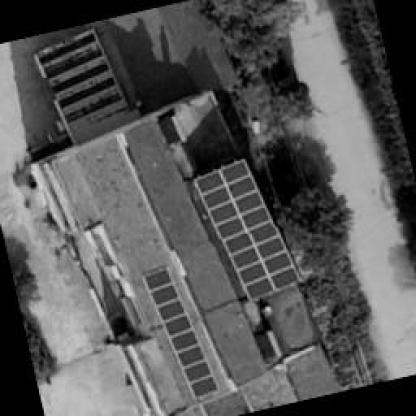solar-pv-panel: (192, 159, 299, 301), (140, 268, 217, 399)
